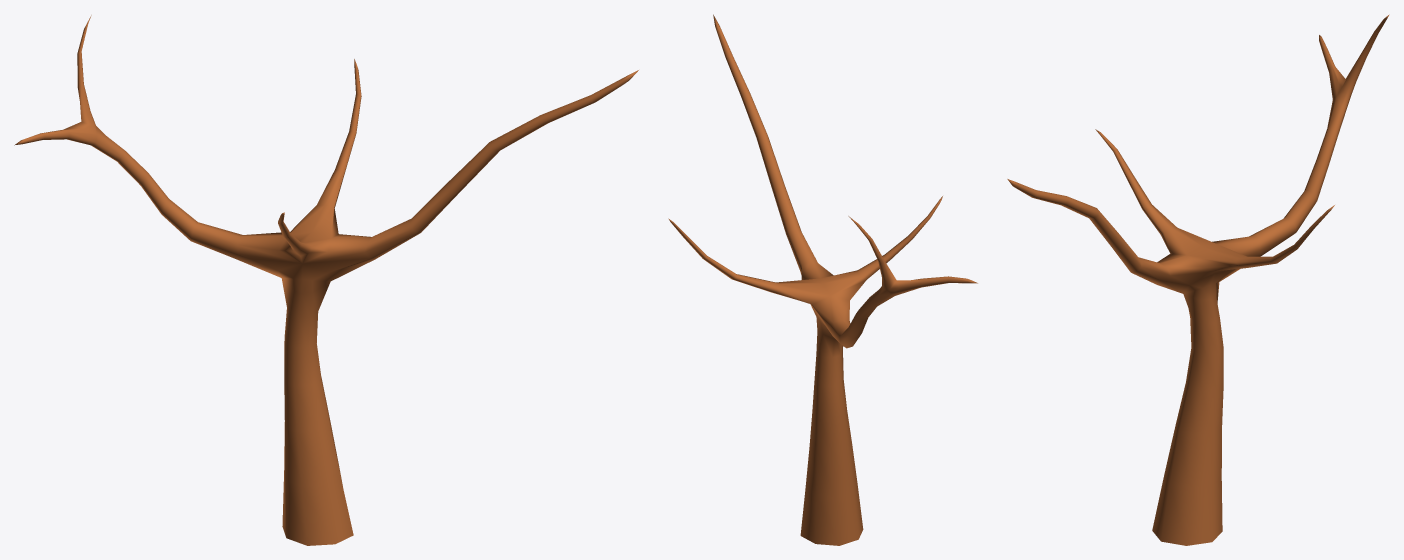
File: DeadTree_A.fbx
The picture shows the model from 3 angles, left to right: view 1: azimuth 30°, elevation 25°; view 2: azimuth 150°, elevation 25°; view 3: azimuth 270°, elevation 25°; orthographic projection. The views are drawn at different scales.
Parts seen in each view (by area): view 1: Dead_Tree_m_02; view 2: Dead_Tree_m_02; view 3: Dead_Tree_m_02.
Part boxes in pixels (x1,y1,x2,y2): Dead_Tree_m_02: (14, 15, 638, 545); Dead_Tree_m_02: (668, 14, 977, 545); Dead_Tree_m_02: (1007, 14, 1389, 545).
Size of the model in its own units: 687 by 668 by 502.
